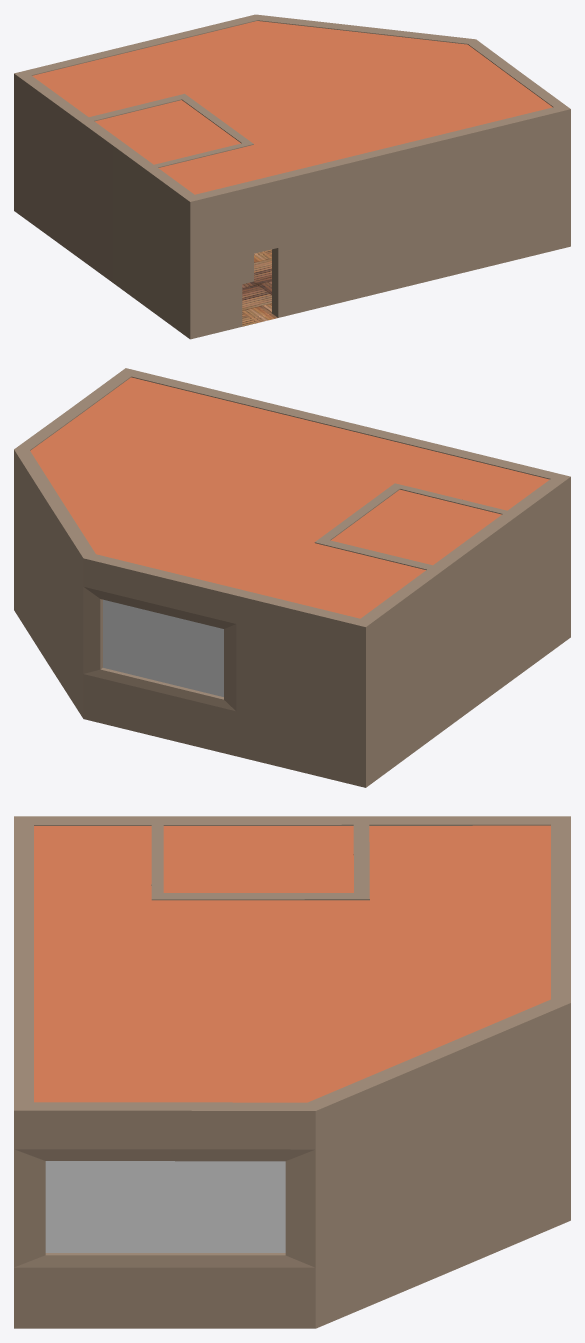
File: Apartment.fbx
The picture shows the model from 3 angles, top to bottom: view 1: azimuth 30°, elevation 25°; view 2: azimuth 150°, elevation 25°; view 3: azimuth 270°, elevation 25°; orthographic projection. The views are drawn at different scales.
Visible parts, largest first — view 1: Apartment, Celling, Floor; view 2: Apartment, Celling; view 3: Apartment, Celling.
Boxes of the visible parts, x1=… form: Apartment: x1=14, y1=14, x2=570, y2=339; Celling: x1=32, y1=21, x2=552, y2=194; Floor: x1=242, y1=249, x2=277, y2=326; Apartment: x1=14, y1=368, x2=570, y2=787; Celling: x1=30, y1=377, x2=549, y2=618; Apartment: x1=14, y1=816, x2=570, y2=1328; Celling: x1=34, y1=825, x2=550, y2=1102.
Bounding box in the file's own units: 10.51 × 3.62 × 8.39.
